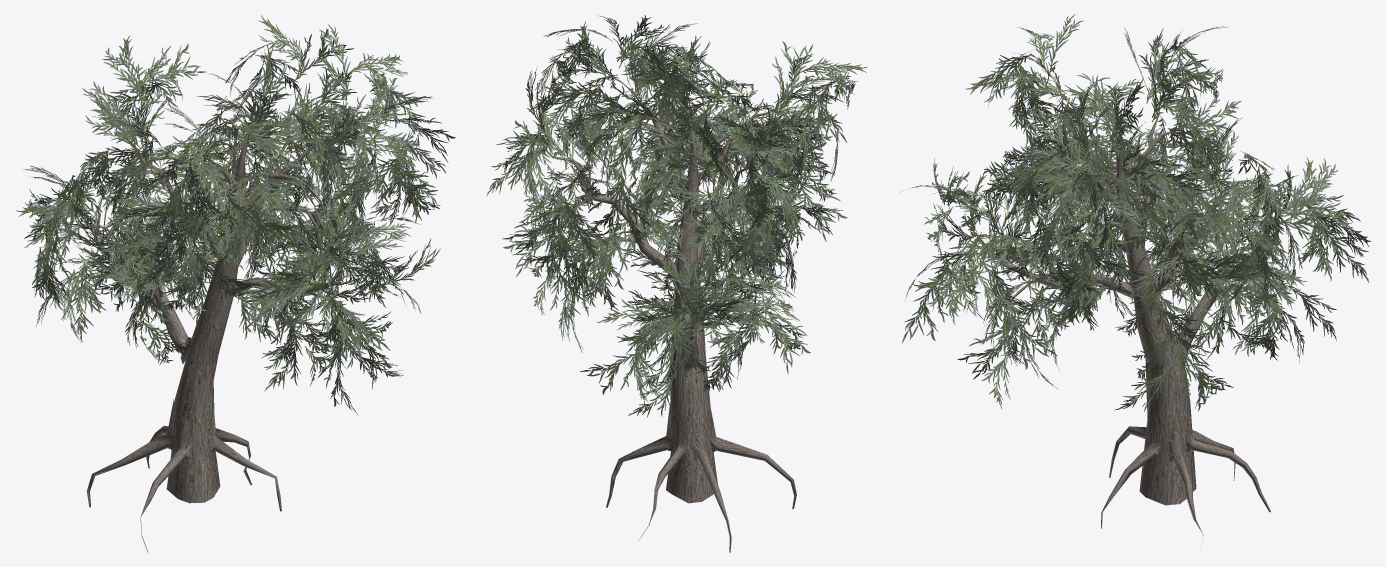
The model's file is saule_mobile.glb.
3 views of the same model, side by side, from view 1: azimuth 30°, elevation 25°; view 2: azimuth 150°, elevation 25°; view 3: azimuth 270°, elevation 25° (orthographic). The views are drawn at different scales.
Visible parts, largest first — view 1: SilverWillow_LOD0_M_Branch_0, SilverWillow_LOD0_M_Bark_0; view 2: SilverWillow_LOD0_M_Branch_0, SilverWillow_LOD0_M_Bark_0; view 3: SilverWillow_LOD0_M_Branch_0, SilverWillow_LOD0_M_Bark_0.
Boxes of the visible parts, x1,y1,x2,y2 form: SilverWillow_LOD0_M_Branch_0: [16, 15, 455, 415]; SilverWillow_LOD0_M_Bark_0: [44, 83, 405, 552]; SilverWillow_LOD0_M_Branch_0: [486, 15, 867, 417]; SilverWillow_LOD0_M_Bark_0: [537, 52, 806, 552]; SilverWillow_LOD0_M_Branch_0: [900, 14, 1370, 411]; SilverWillow_LOD0_M_Bark_0: [932, 81, 1292, 542].
Bounding box in the file's own units: 11.6 × 15.38 × 13.76.
Materials: 2 (2 with a texture image).
